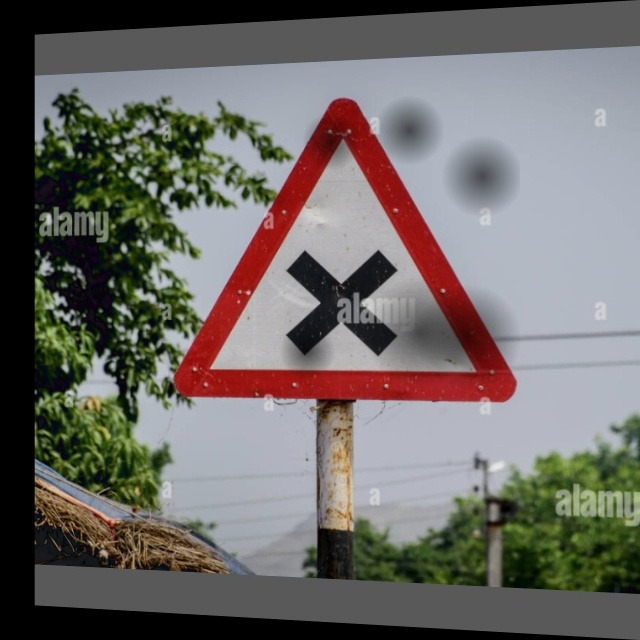Cross_Road: (173, 88, 520, 401)
